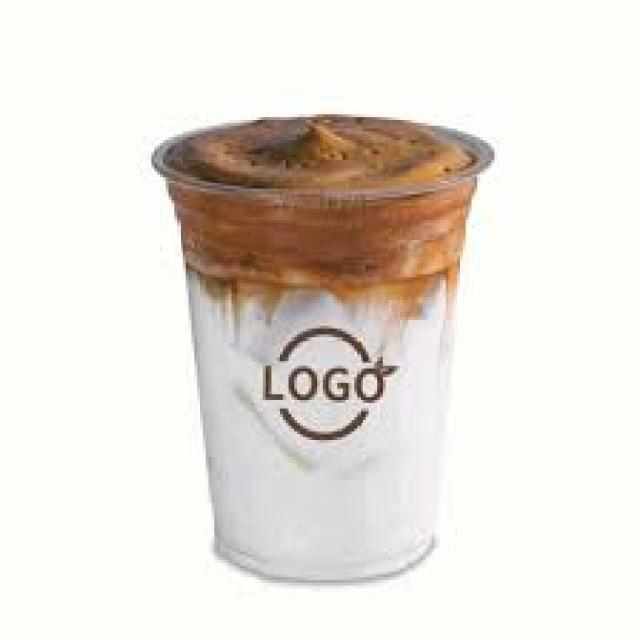bottle: (152, 115, 492, 579)
